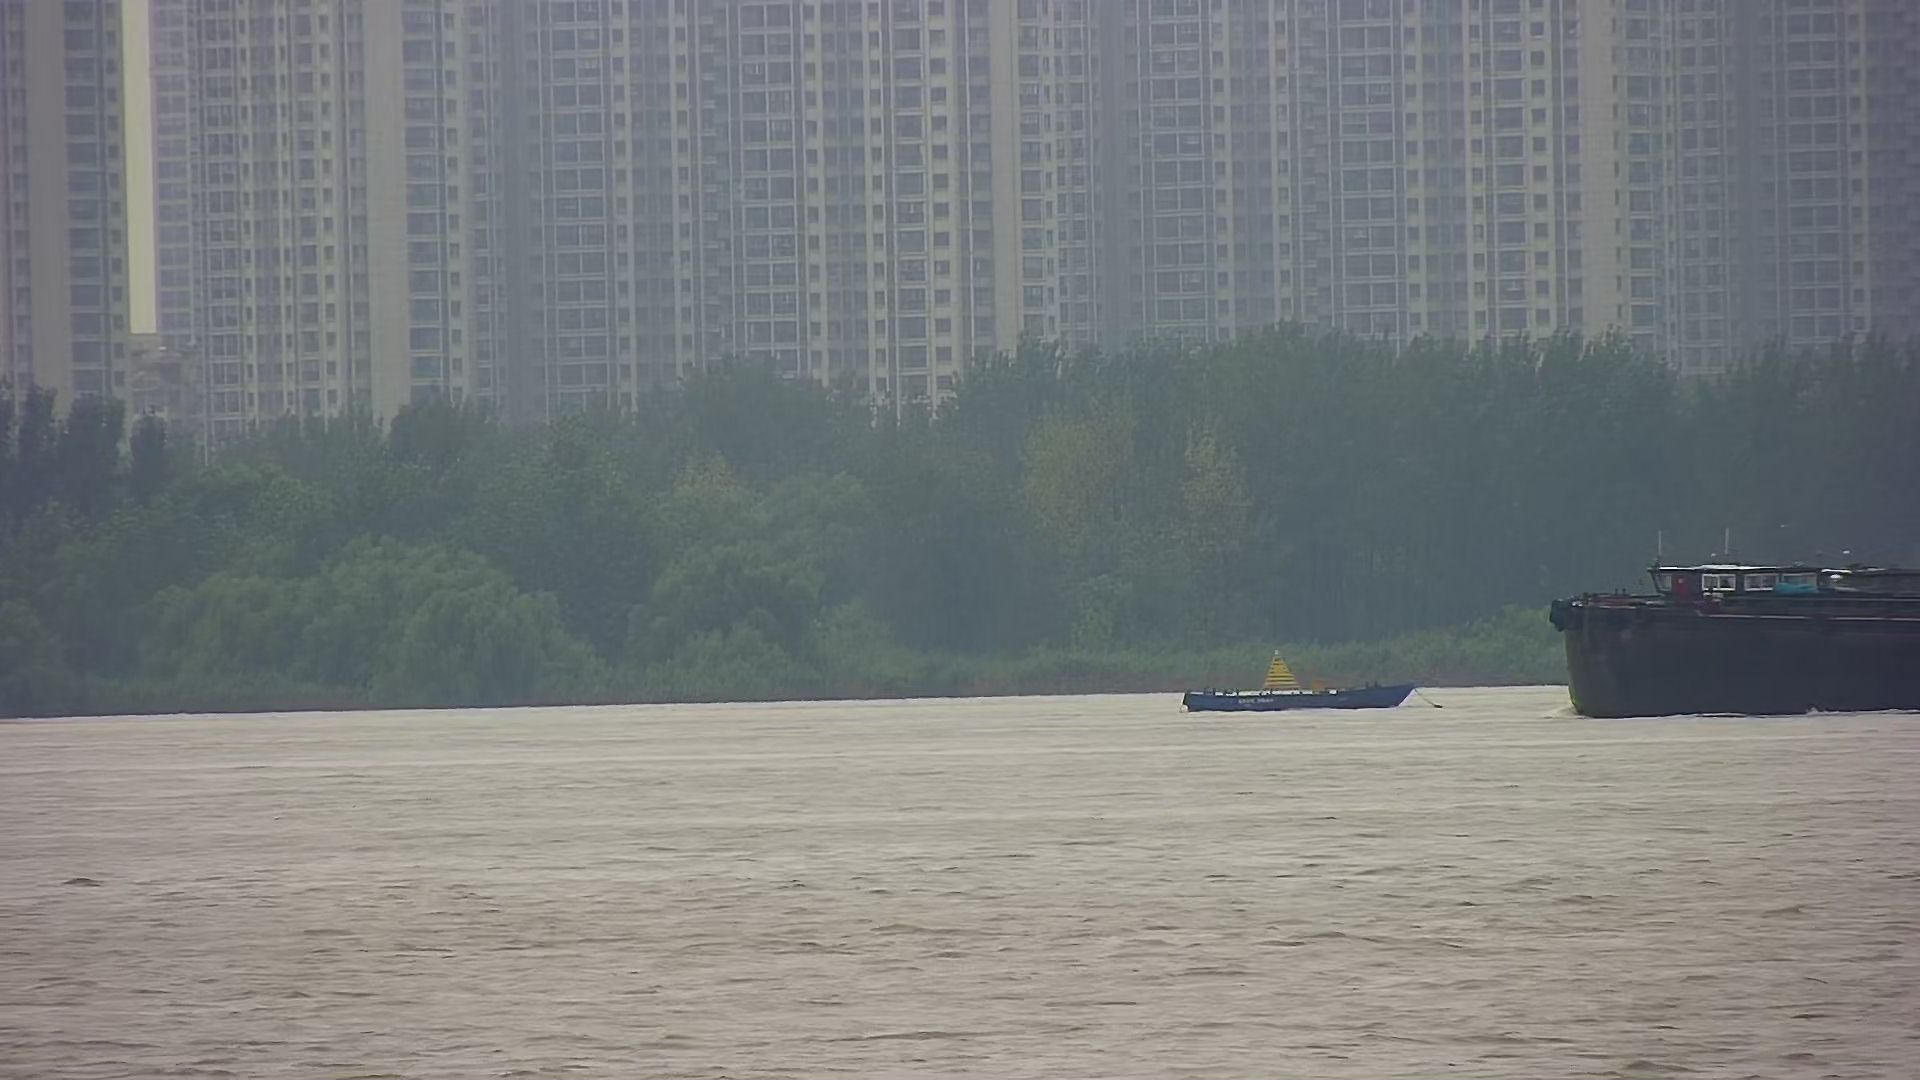boat: (1182, 642, 1419, 717)
ship: (1551, 529, 1920, 717)
